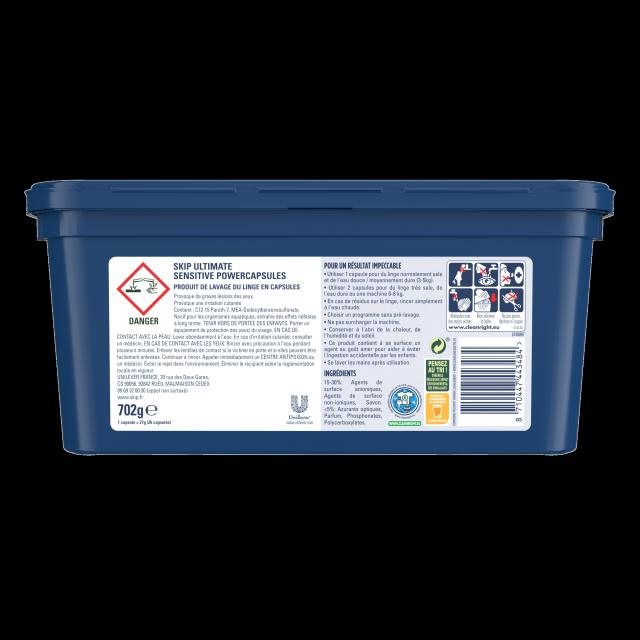GHS_Symbol_CORROSION: (117, 262, 171, 316)
